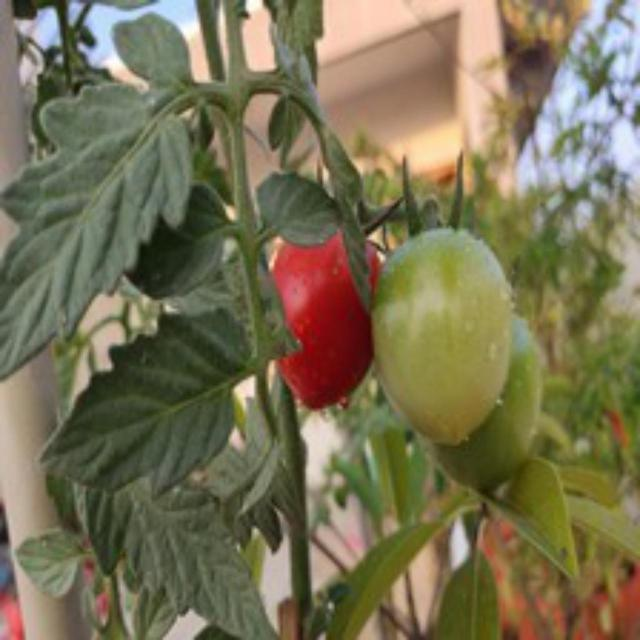tomato: (243, 207, 391, 419)
